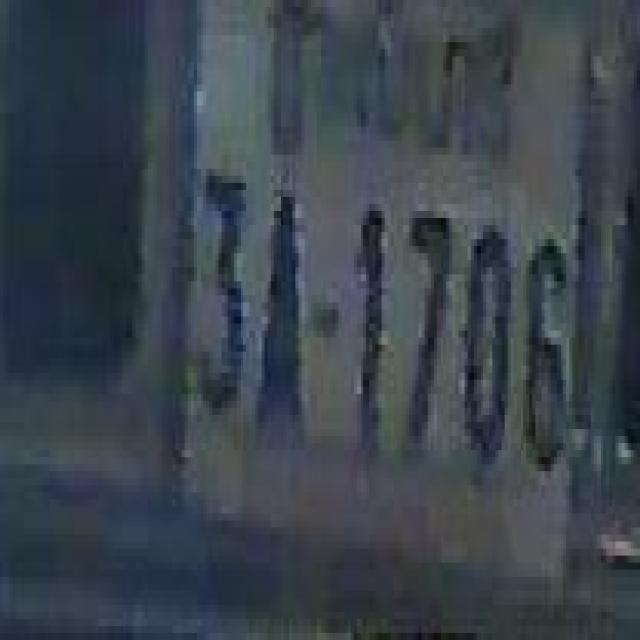Preah_Sihanouk: (265, 0, 518, 195)
